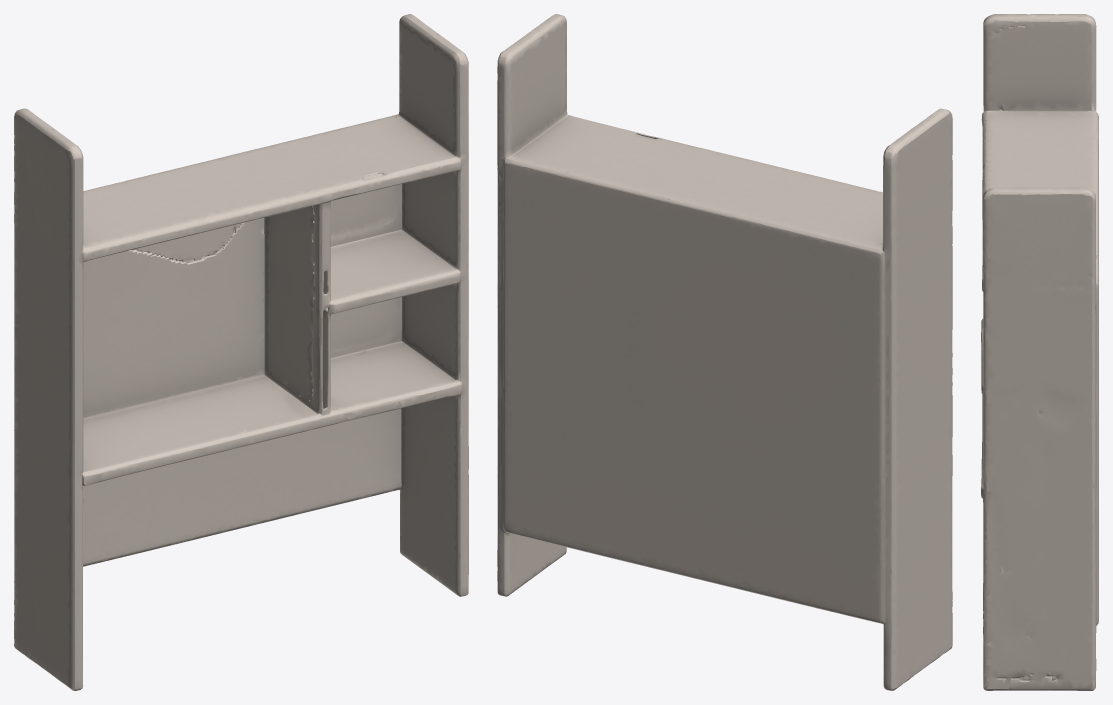
Rendered from item_26674846.glb.
3 views of the same model, side by side, from view 1: azimuth 30°, elevation 25°; view 2: azimuth 150°, elevation 25°; view 3: azimuth 270°, elevation 25° (orthographic). The views are drawn at different scales.
Parts seen in each view (by area): view 1: world; view 2: world; view 3: world.
Part boxes in pixels (<box>): world: <box>14,14,468,690</box>; world: <box>497,14,952,690</box>; world: <box>981,14,1098,690</box>.
Size of the model in its own units: 0.6912 by 0.9 by 0.1923.
Materials: 1 (1 with a texture image).
